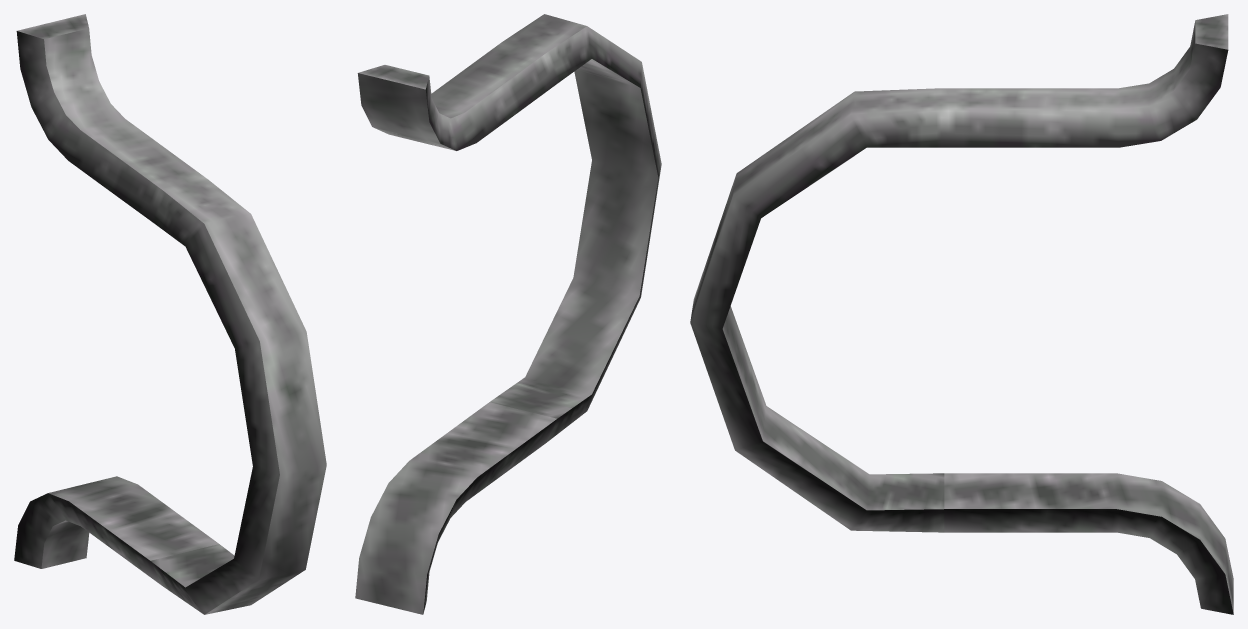
File: lab_bracket.dae
3 renders of one model, left to right at view 1: azimuth 30°, elevation 25°; view 2: azimuth 150°, elevation 25°; view 3: azimuth 270°, elevation 25°, orthographic. The views are drawn at different scales.
Visible parts, largest first — view 1: bracket; view 2: bracket; view 3: bracket.
Boxes of the visible parts, left/top/right/bottom form: bracket: left=14, top=14, right=326, bottom=614; bracket: left=355, top=14, right=661, bottom=614; bracket: left=690, top=14, right=1233, bottom=614.
Bounding box in the file's own units: 0.0292 × 0.2147 × 0.1871.
